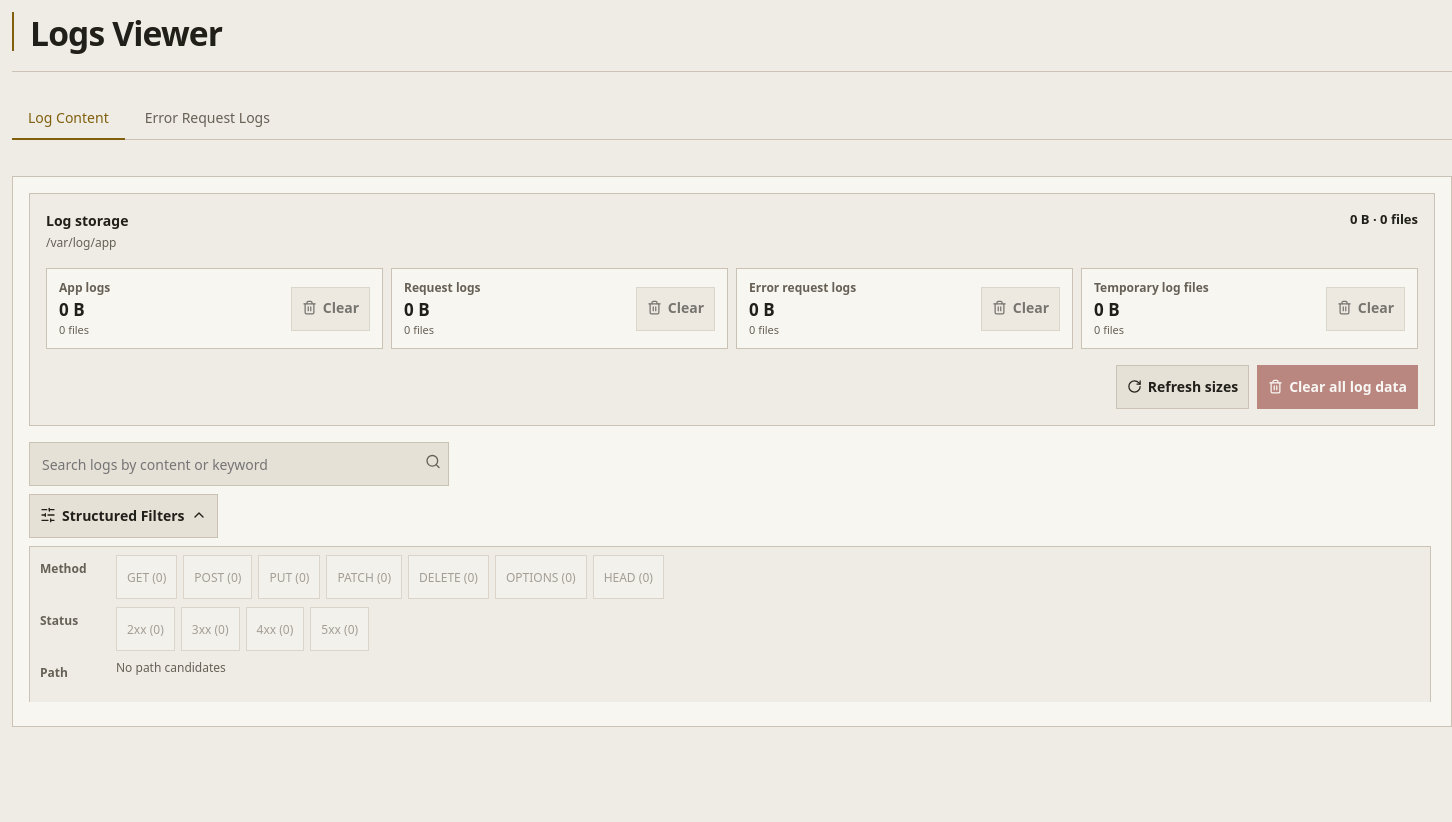
Scenario: LogsPage error logs tab › shows the empty error logs hint when no files are returned
Click the button "Error Request Logs": [207, 118] box [129,96,286,140]
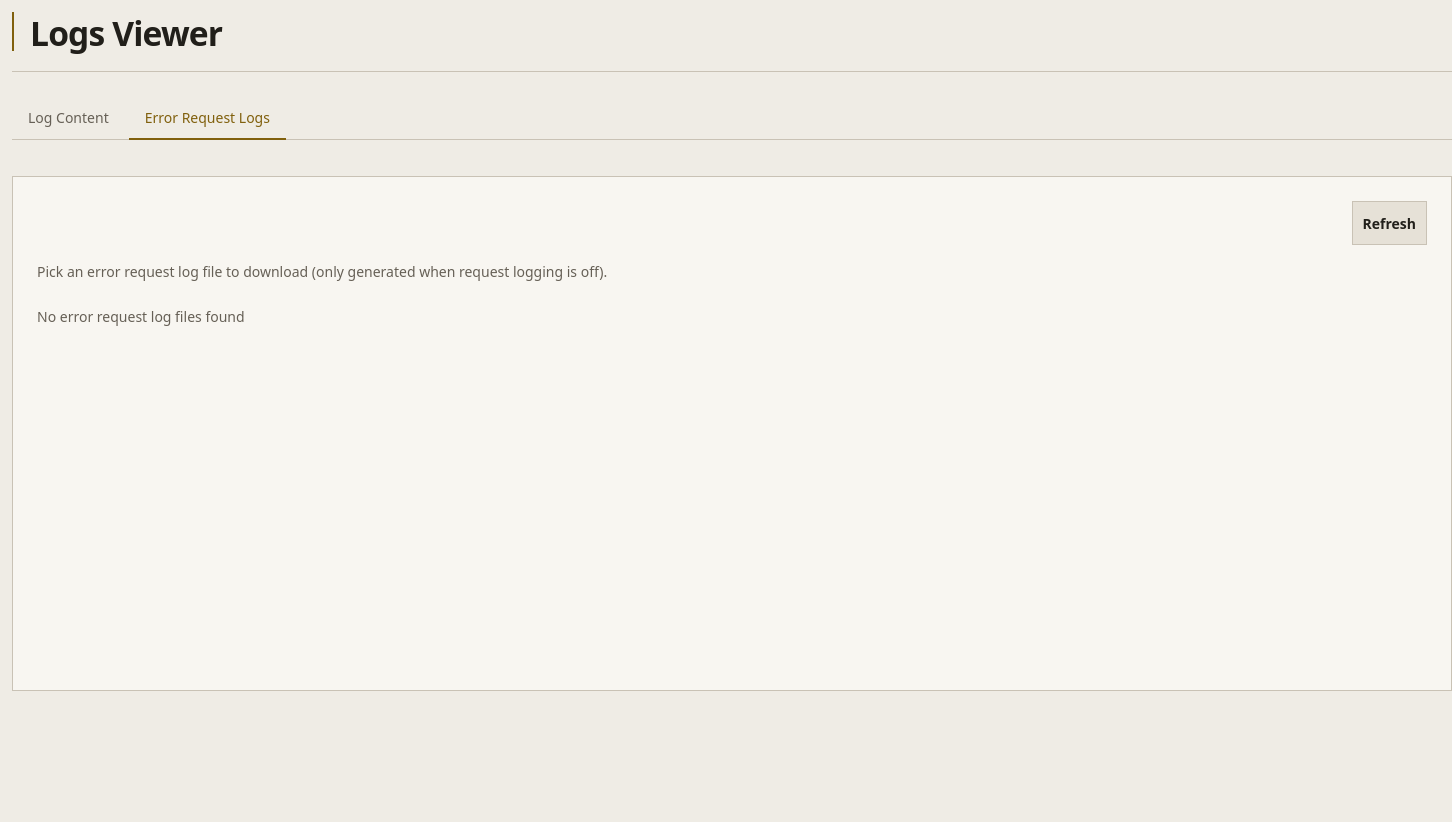
Expected: the text "No error request log files found" is shown, [37,307,245,326]
